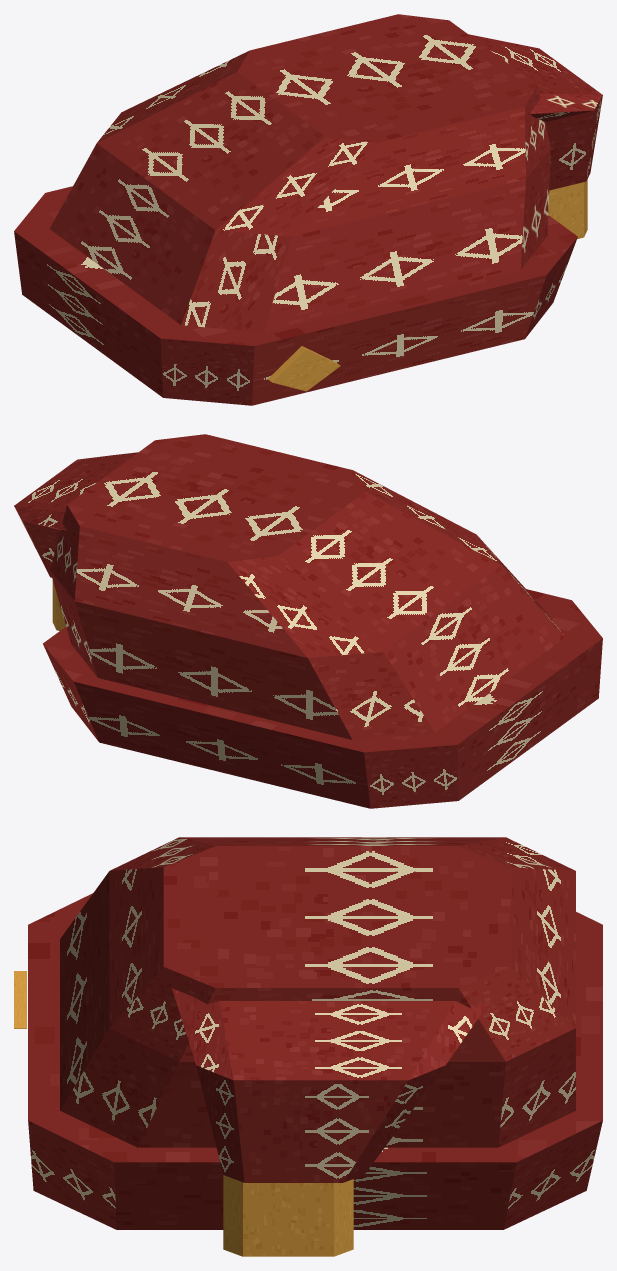
Rendered from hat3.glb.
3 renders of one model, top to bottom at view 1: azimuth 30°, elevation 25°; view 2: azimuth 150°, elevation 25°; view 3: azimuth 270°, elevation 25°, orthographic. The views are drawn at different scales.
Visible parts, largest first — view 1: mila_hat; view 2: mila_hat; view 3: mila_hat.
Boxes of the visible parts, x1,y1,x2,y2 form: mila_hat: (14,14,602,405); mila_hat: (14,434,602,808); mila_hat: (14,837,602,1256).
Bounding box in the file's own units: 0.71 × 0.26 × 0.543.
Materials: 1 (1 with a texture image).
